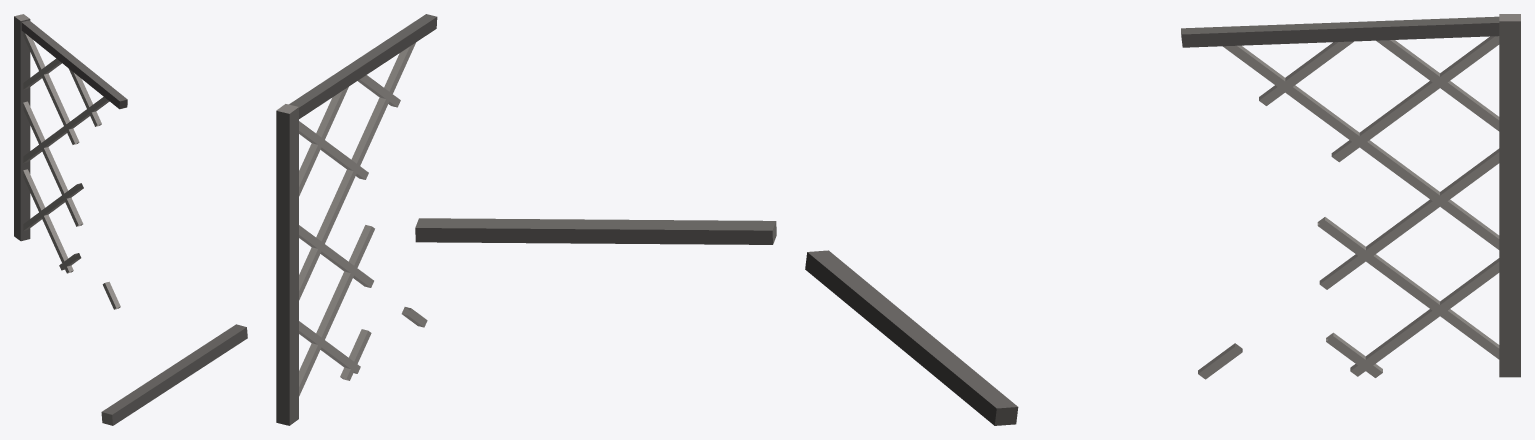
Rendered from Fence_Wire_Damaged_02.fbx.
The picture shows the model from 3 angles, left to right: view 1: azimuth 30°, elevation 25°; view 2: azimuth 150°, elevation 25°; view 3: azimuth 270°, elevation 25°; orthographic projection. The views are drawn at different scales.
Parts seen in each view (by area): view 1: Fence_Wire_Damaged_02; view 2: Fence_Wire_Damaged_02; view 3: Fence_Wire_Damaged_02.
Boxes of the visible parts, x1=… form: Fence_Wire_Damaged_02: x1=14, y1=14, x2=247, y2=425; Fence_Wire_Damaged_02: x1=276, y1=14, x2=776, y2=425; Fence_Wire_Damaged_02: x1=805, y1=14, x2=1520, y2=425.
Bounding box in the file's own units: 2.9 × 5.61 × 3.12.
